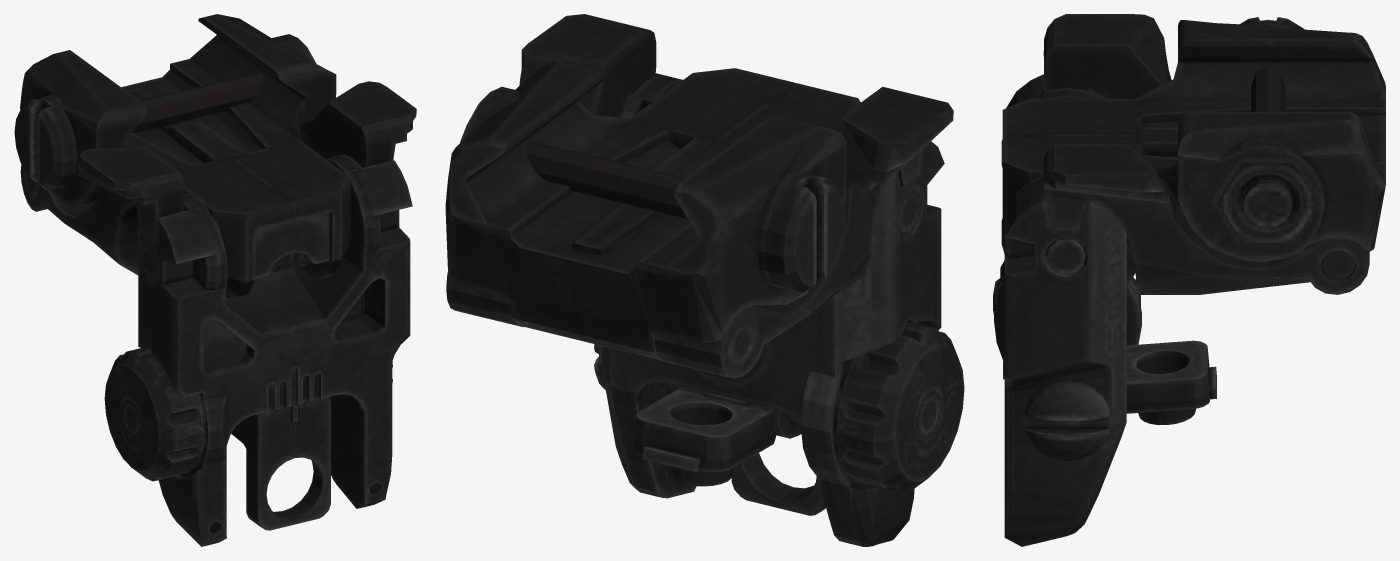
3 renders of one model, left to right at view 1: azimuth 30°, elevation 25°; view 2: azimuth 150°, elevation 25°; view 3: azimuth 270°, elevation 25°, orthographic. The views are drawn at different scales.
Visible parts, largest first — view 1: TW_5bc09a18d4351e003562b68e_PZ_Import; view 2: TW_5bc09a18d4351e003562b68e_PZ_Import; view 3: TW_5bc09a18d4351e003562b68e_PZ_Import.
Part boxes in pixels (box(x1,y1,x2,y2)): TW_5bc09a18d4351e003562b68e_PZ_Import: box(14, 14, 416, 546); TW_5bc09a18d4351e003562b68e_PZ_Import: box(445, 14, 964, 546); TW_5bc09a18d4351e003562b68e_PZ_Import: box(993, 14, 1385, 546).
Bounding box in the file's own units: 0.0209 × 0.0214 × 0.0254.
1 material, 1 textured.
